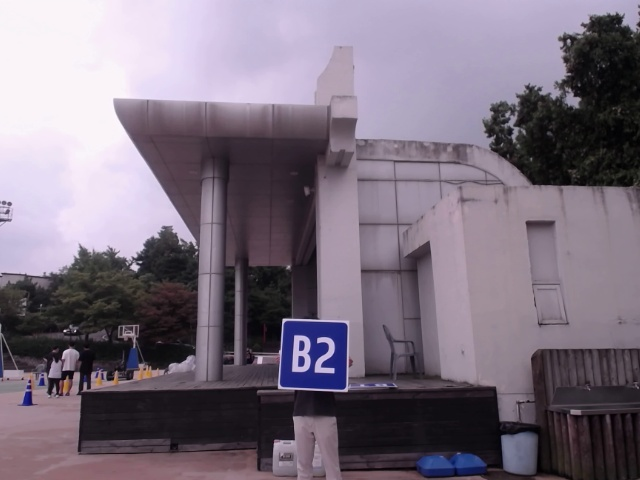delivery_b2: (281, 318, 349, 389)
